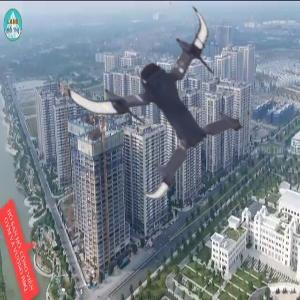drone: (74, 6, 252, 184)
